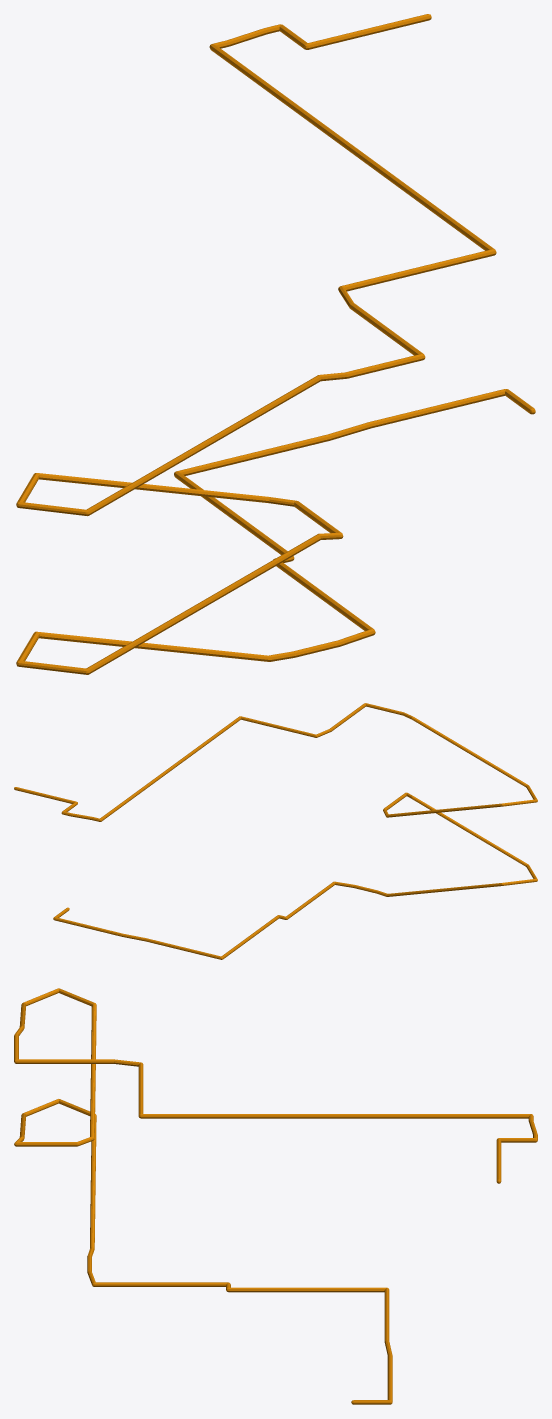
3 views of the same model, one above another, from view 1: azimuth 30°, elevation 25°; view 2: azimuth 150°, elevation 25°; view 3: azimuth 270°, elevation 25° (orthographic). The views are drawn at different scales.
Size of the model in its own units: 2409 by 1020 by 2149.
